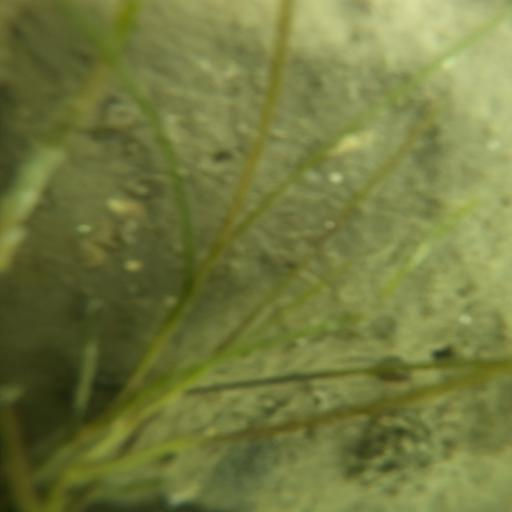Oyster-Closed: (200, 6, 466, 395), (126, 3, 273, 243), (358, 382, 510, 509), (194, 416, 362, 509)
